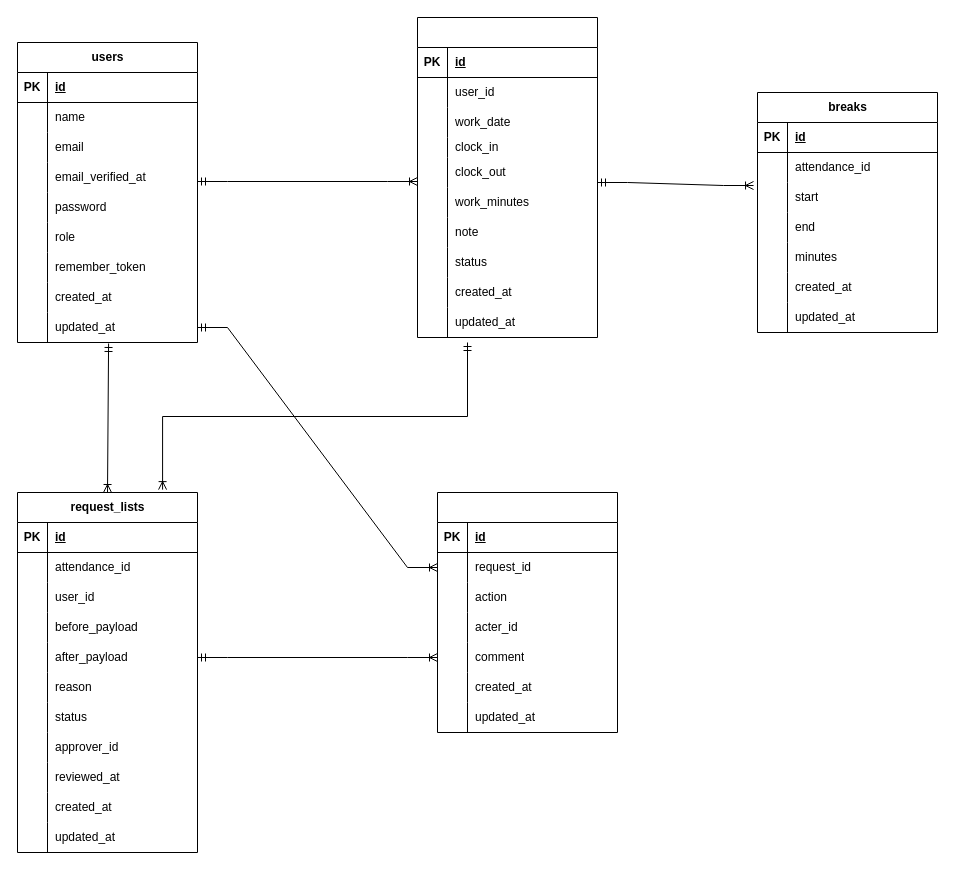
The diagram is 955 pixels wide and 870 high, and some of its shapes have lost their labels. The shapes that lost their labels are listed below. From the top down, each one's box as (x1, y1, x2, y2) in pixels, then its label:
(416, 16, 598, 338): attendance
(436, 492, 618, 732): approval_logs
